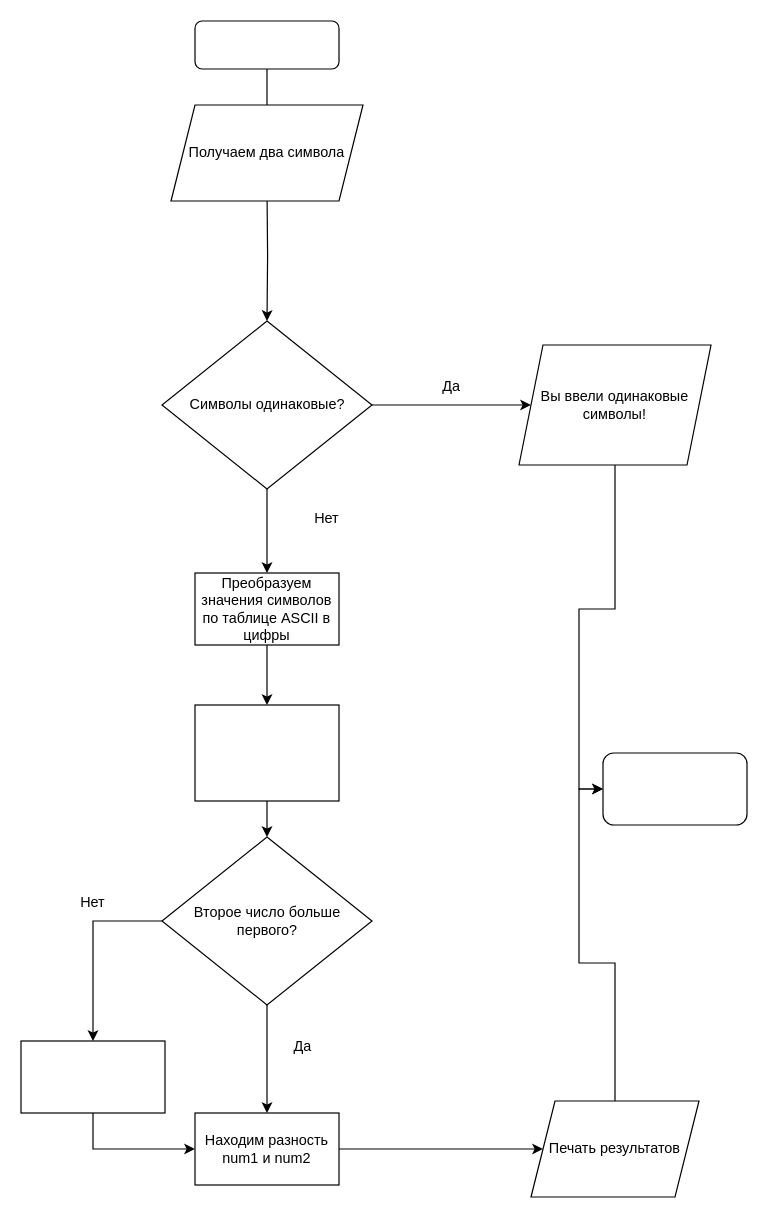
This 768x1218 diagram has some shape labels left out. Each missing label, with the centre of its shape:
"Вычитаем из полученных значений 96, получаем два числа num1, num2" belongs at point 266,752.
"Конец" belongs at point 674,788.
"Меняем буквы местами" belongs at point 92,1076.
"Начало" belongs at point 266,44.
